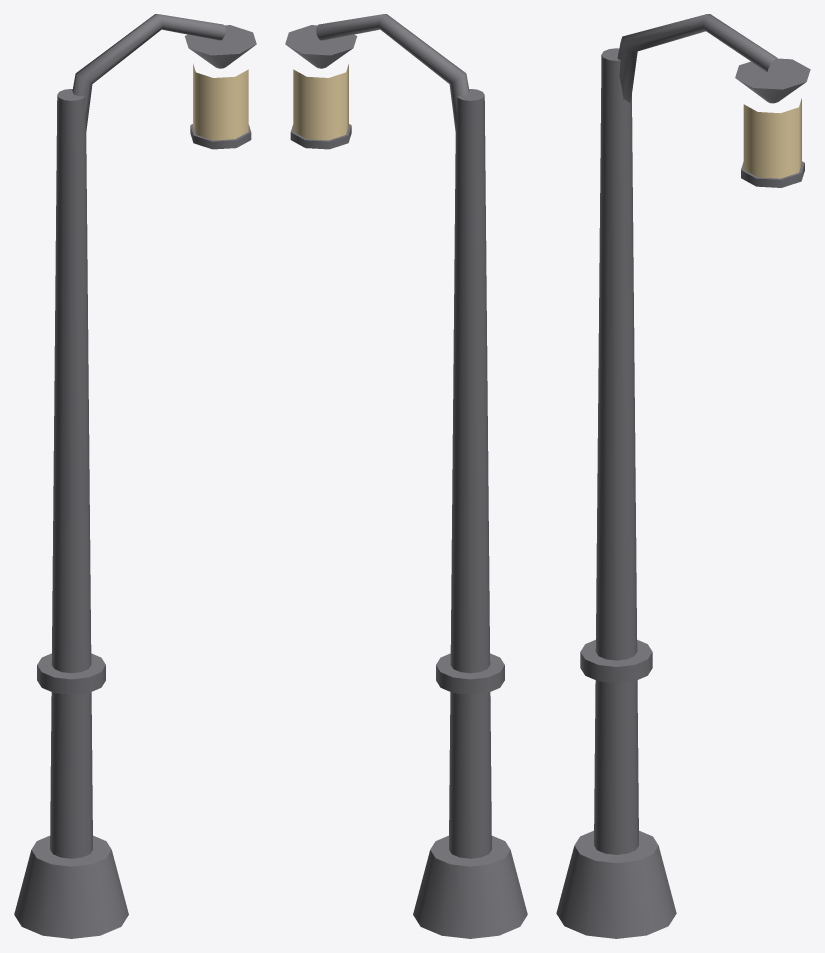
File: lamp_post.glb
The picture shows the model from 3 angles, left to right: view 1: azimuth 30°, elevation 25°; view 2: azimuth 150°, elevation 25°; view 3: azimuth 330°, elevation 25°; orthographic projection. The views are drawn at different scales.
Parts seen in each view (by area): view 1: LampPost; view 2: LampPost; view 3: LampPost.
Boxes of the visible parts, x1,y1,x2,y2 form: LampPost: [14, 14, 256, 938]; LampPost: [285, 14, 527, 938]; LampPost: [556, 14, 810, 938].
Bounding box in the file's own units: 0.93 × 3.38 × 0.4.
